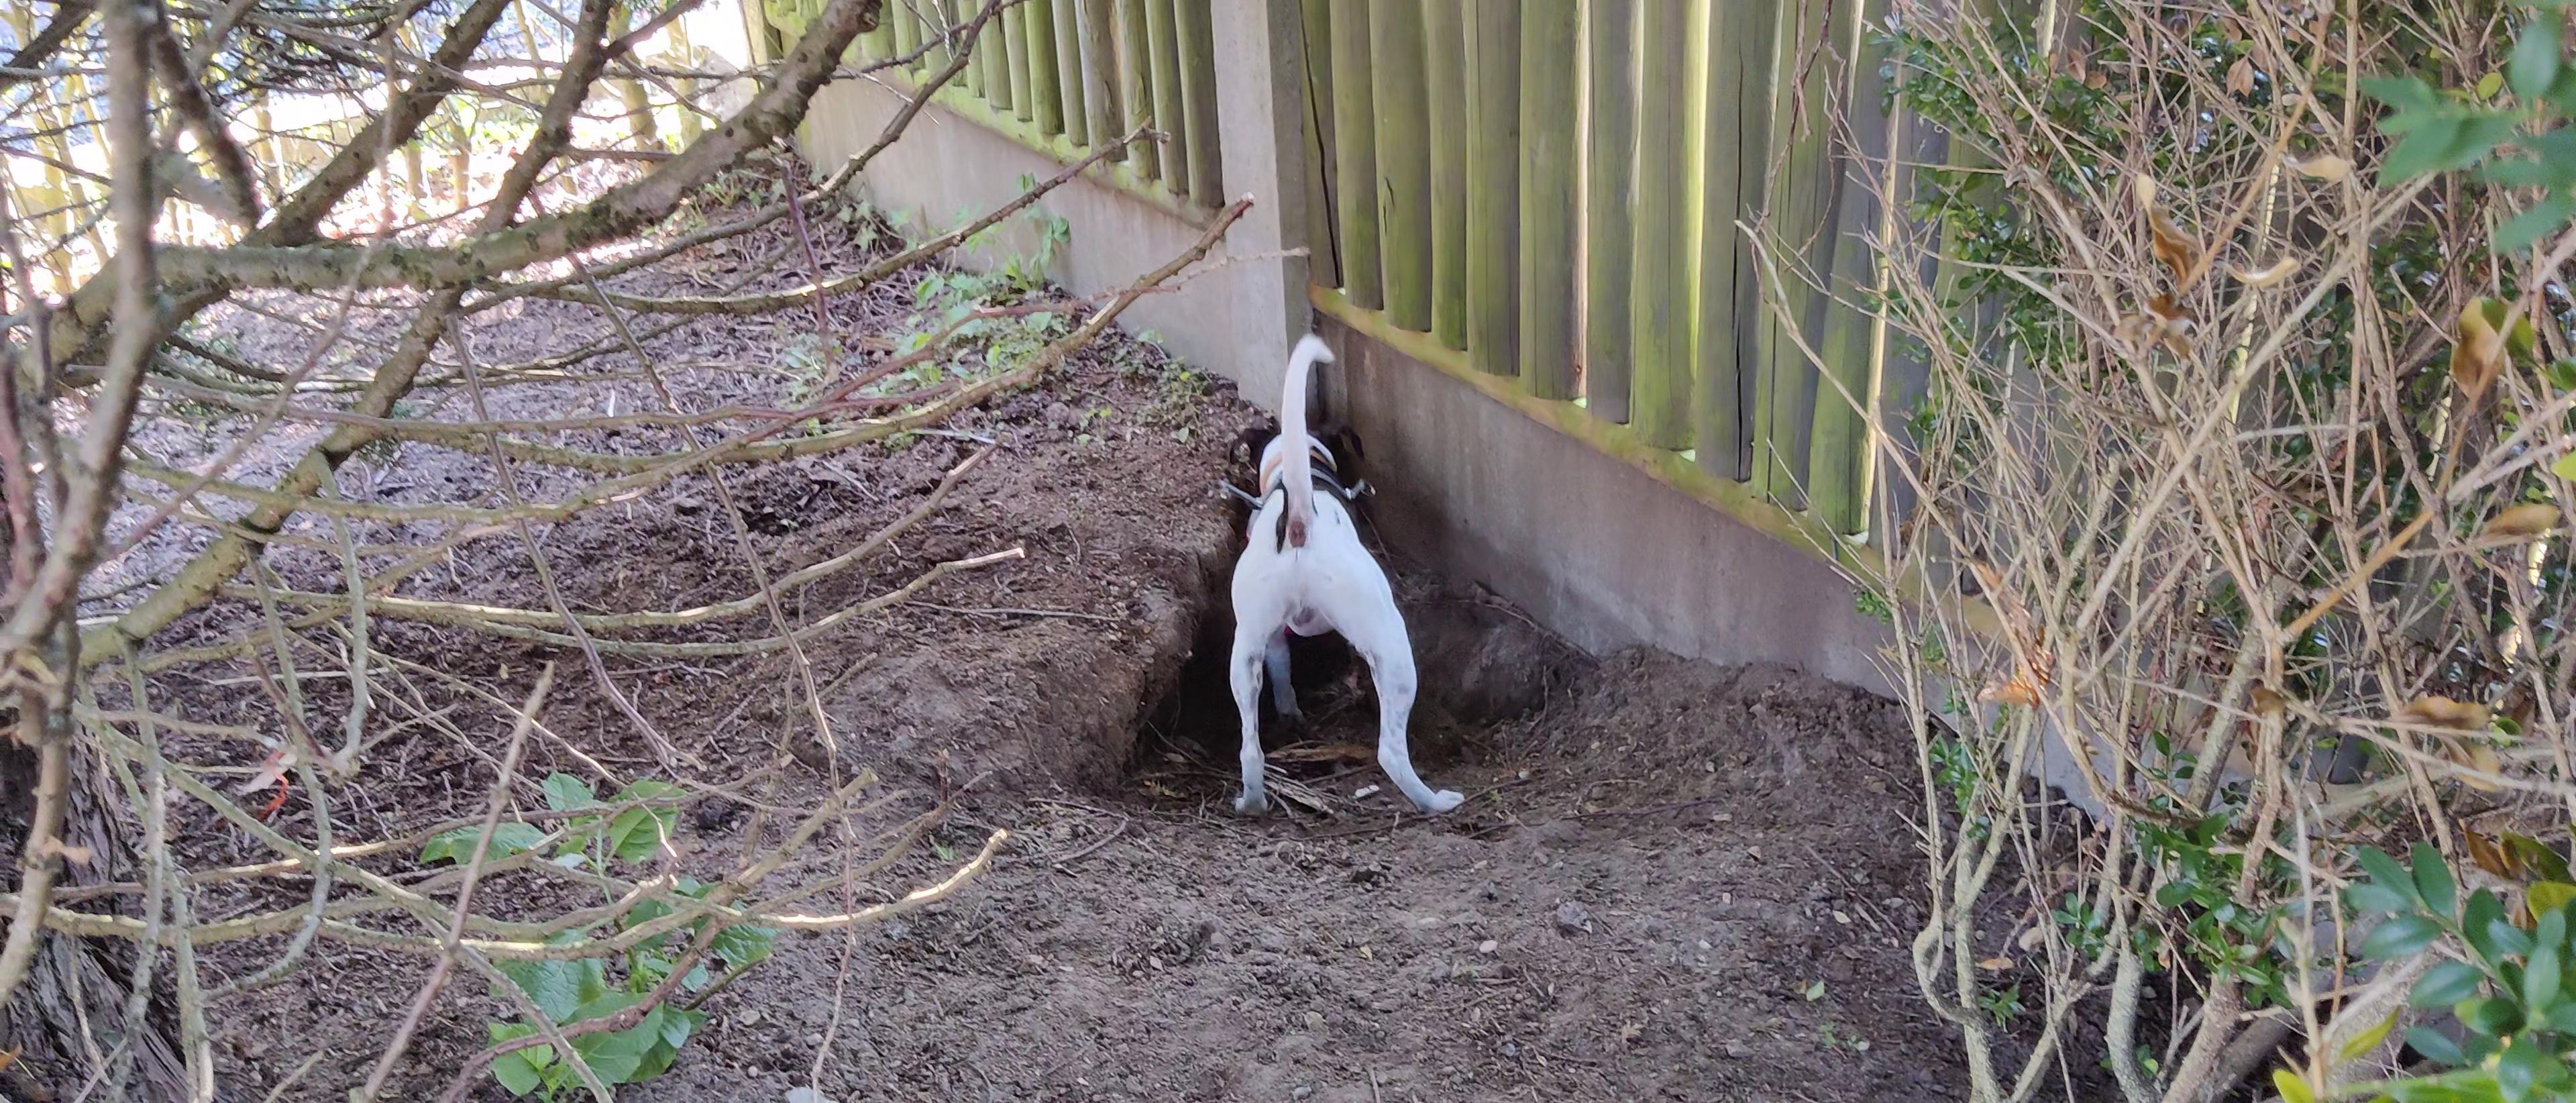Dog: (1193, 321, 1487, 825)
